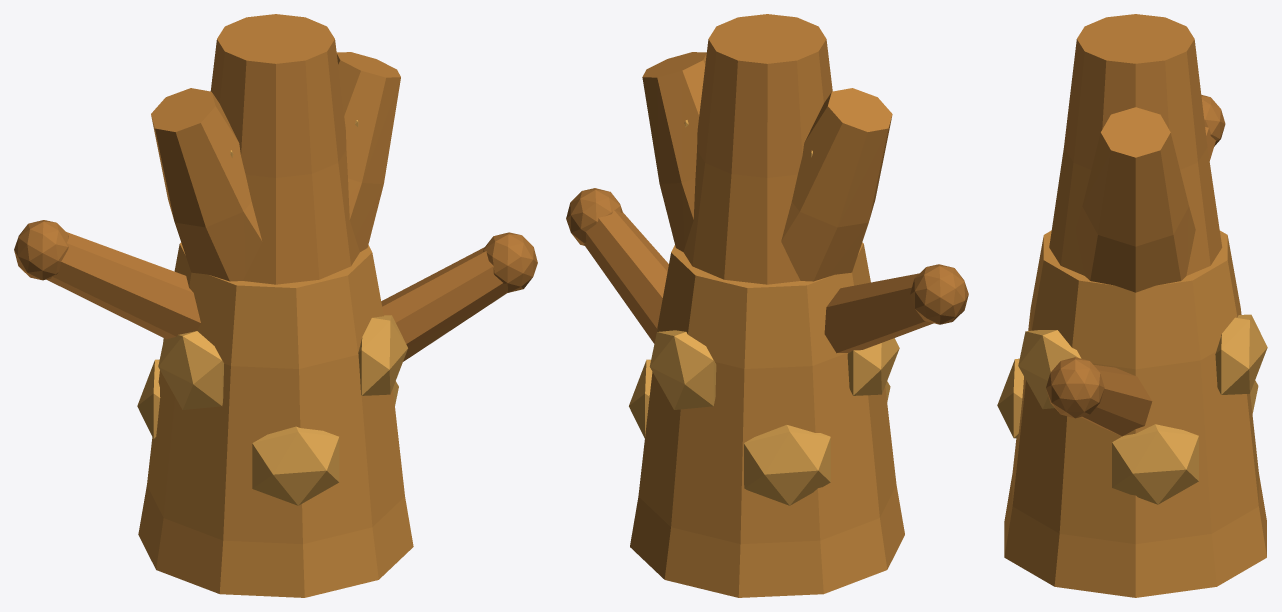
Rendered from MapleTrunk.obj.
3 views of the same model, side by side, from view 1: azimuth 30°, elevation 25°; view 2: azimuth 150°, elevation 25°; view 3: azimuth 270°, elevation 25° (orthographic).
Visible parts, largest first — view 1: MapleTrunk_MapleBark, MapleTrunk_MapleLimbs, MapleTrunk_MapleStubs, MapleTrunk_MaplePlates; view 2: MapleTrunk_MapleBark, MapleTrunk_MapleLimbs, MapleTrunk_MapleStubs, MapleTrunk_MaplePlates; view 3: MapleTrunk_MapleBark, MapleTrunk_MapleLimbs, MapleTrunk_MaplePlates, MapleTrunk_MapleStubs.
Boxes of the visible parts, bbox=[...] form: MapleTrunk_MapleBark: bbox=[138, 242, 413, 597]; MapleTrunk_MapleLimbs: bbox=[151, 14, 400, 284]; MapleTrunk_MapleStubs: bbox=[14, 220, 537, 361]; MapleTrunk_MaplePlates: bbox=[137, 120, 407, 505]; MapleTrunk_MapleBark: bbox=[630, 242, 904, 597]; MapleTrunk_MapleLimbs: bbox=[642, 14, 892, 284]; MapleTrunk_MapleStubs: bbox=[566, 188, 968, 353]; MapleTrunk_MaplePlates: bbox=[629, 120, 899, 505]; MapleTrunk_MapleBark: bbox=[1004, 230, 1266, 597]; MapleTrunk_MapleLimbs: bbox=[1049, 14, 1222, 292]; MapleTrunk_MaplePlates: bbox=[997, 314, 1267, 504]; MapleTrunk_MapleStubs: bbox=[1046, 95, 1225, 436].
Size of the model in its own units: 2.85 by 3 by 1.47.
